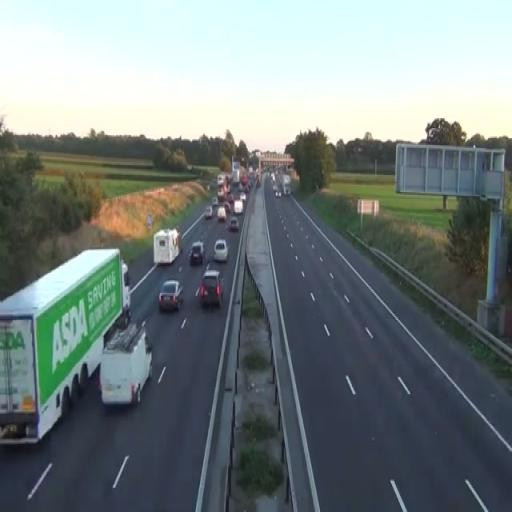Car: (200, 270, 224, 309), (158, 280, 184, 312), (189, 241, 205, 265), (214, 239, 228, 263), (229, 217, 239, 232), (217, 207, 226, 223)
Truck: (0, 246, 131, 445), (98, 317, 154, 408), (153, 227, 182, 267)
